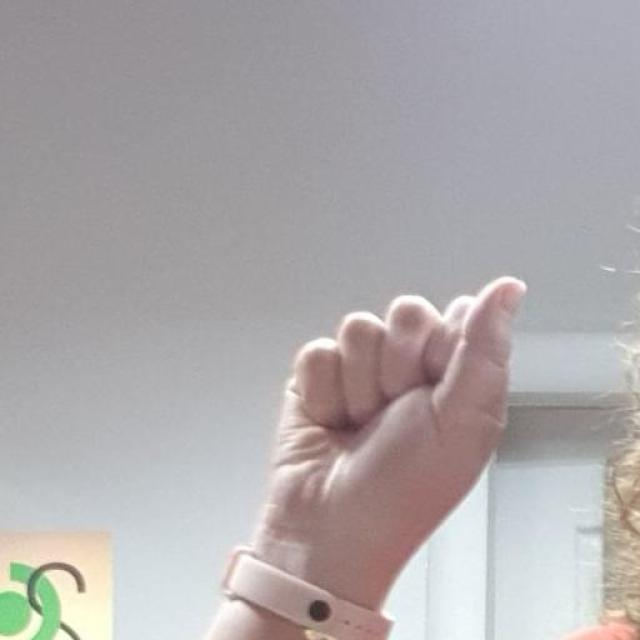hand: (195, 274, 529, 638)
